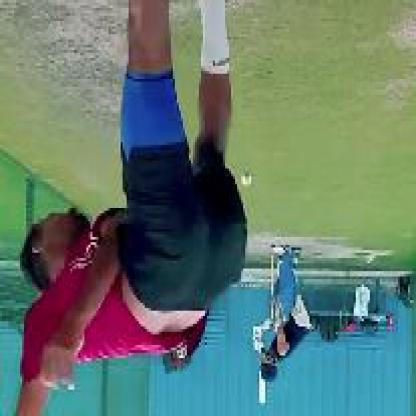ball: (240, 170, 255, 188)
